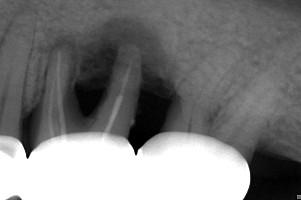Dental Caries: (36, 16, 177, 118)
